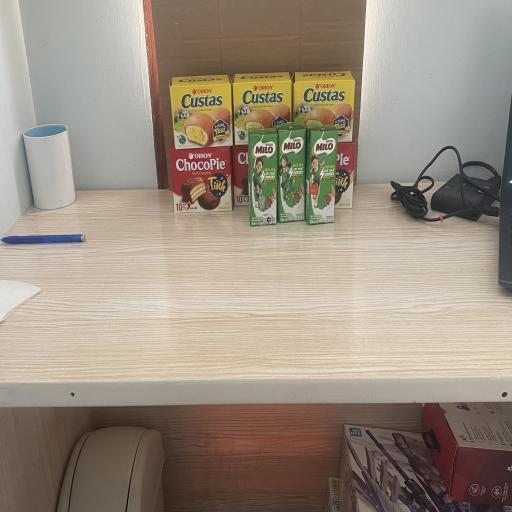chocopie: (169, 141, 233, 213), (335, 142, 355, 209), (232, 145, 250, 206)
custas: (169, 75, 232, 149), (292, 71, 356, 143), (232, 72, 292, 145)
milo: (274, 122, 306, 223), (249, 127, 278, 225), (306, 124, 334, 222)
